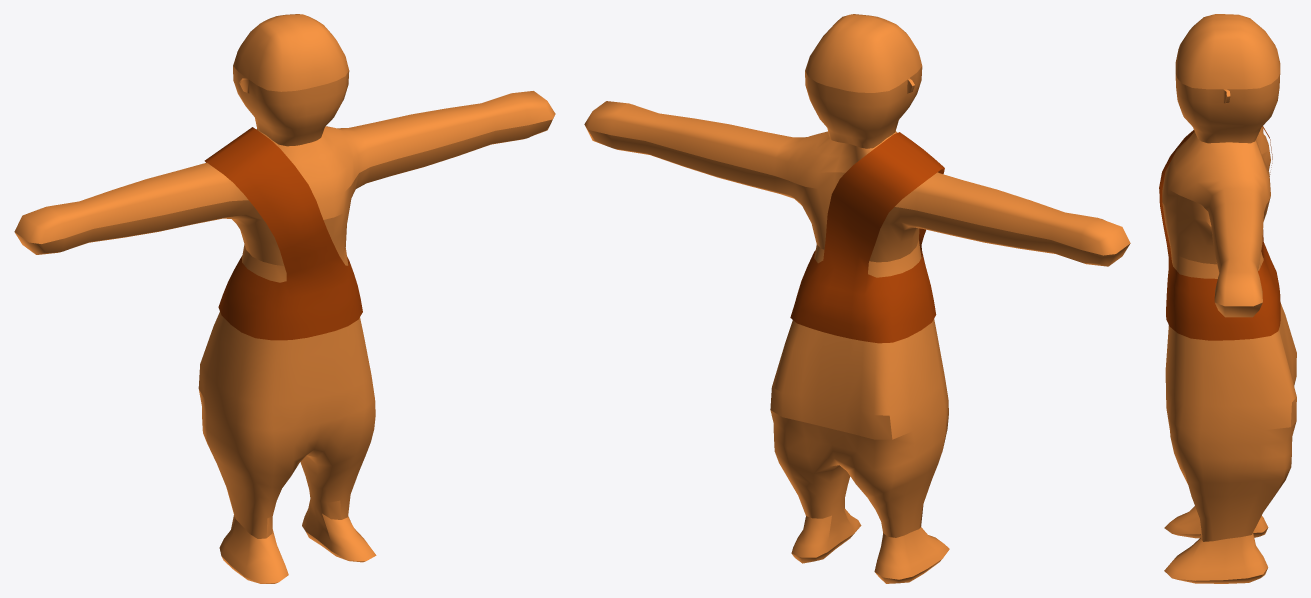
The model's file is monk.fbx.
3 renders of one model, left to right at view 1: azimuth 30°, elevation 25°; view 2: azimuth 150°, elevation 25°; view 3: azimuth 270°, elevation 25°, orthographic.
Parts seen in each view (by area): view 1: pCube1, pPlane3; view 2: pCube1, pPlane3; view 3: pCube1, pPlane3.
Boxes of the visible parts, left/top/right/bottom form: pCube1: left=14, top=14, right=555, bottom=583; pPlane3: left=204, top=127, right=362, bottom=340; pCube1: left=584, top=14, right=1130, bottom=583; pPlane3: left=790, top=132, right=944, bottom=343; pCube1: left=1162, top=14, right=1296, bottom=583; pPlane3: left=1159, top=126, right=1280, bottom=340.
Bounding box in the file's own units: 10 × 9.72 × 2.26.
